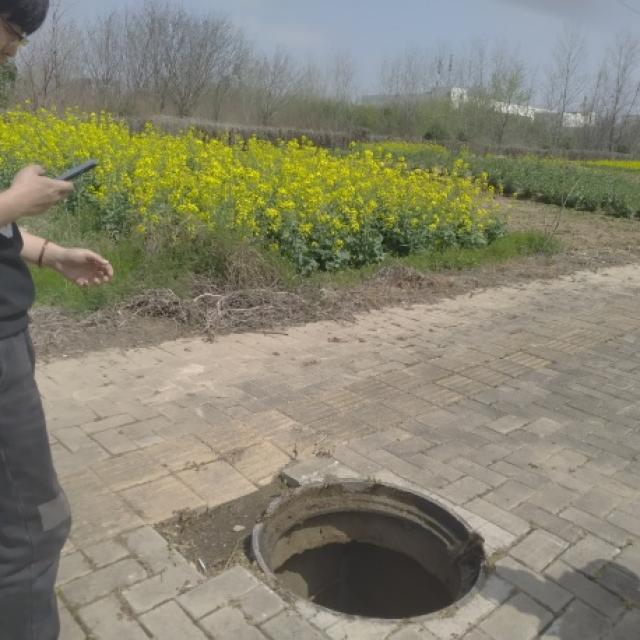Faulty: (222, 451, 508, 634)
